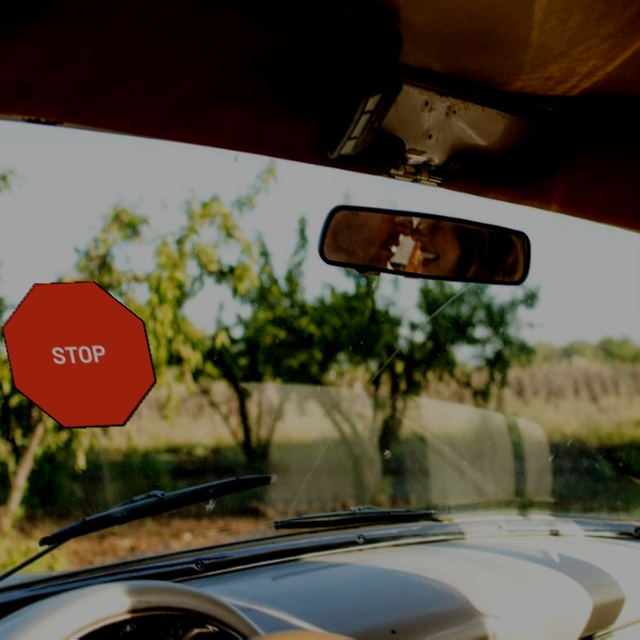STOP: (2, 281, 157, 429)
